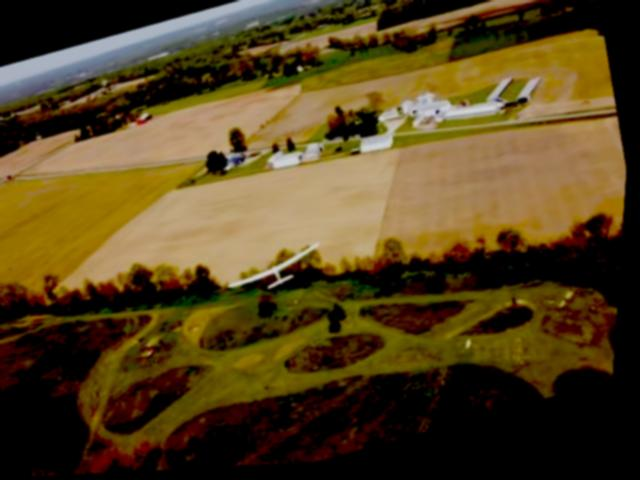uav: (218, 233, 339, 317)
